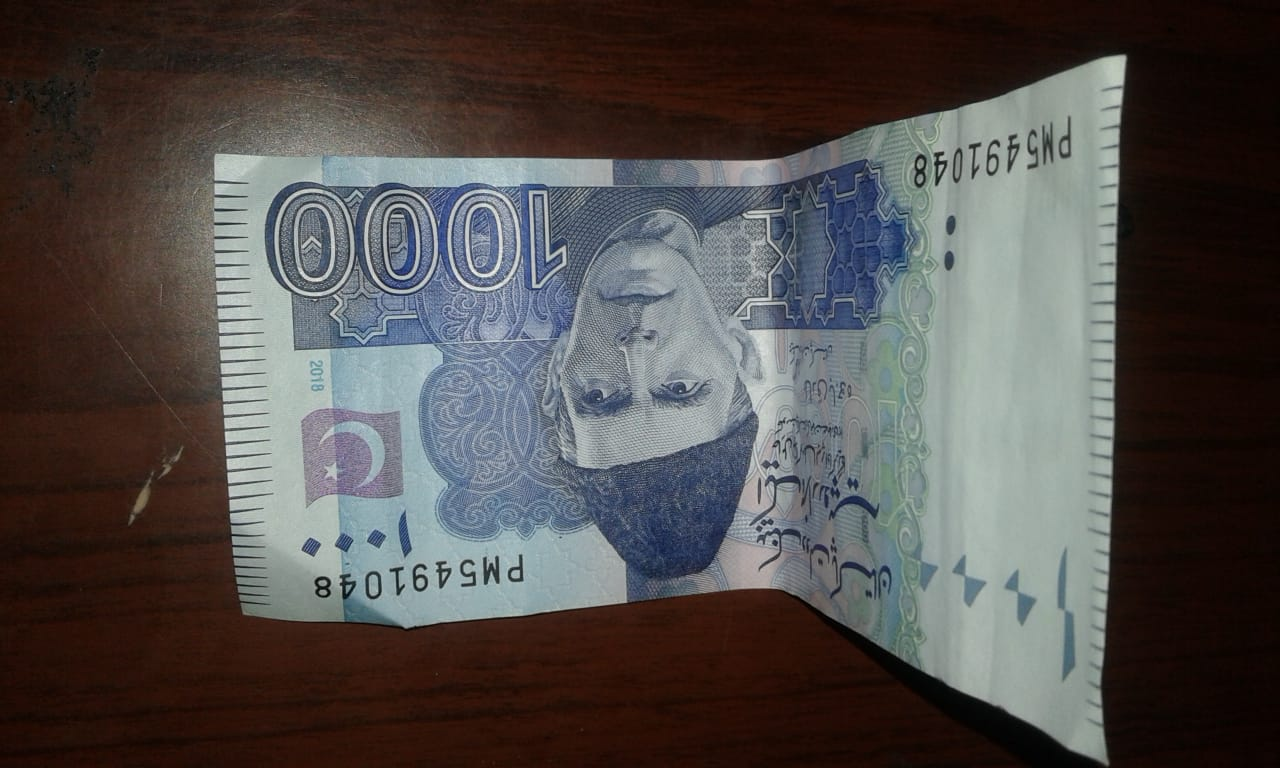1000 rupee: (174, 59, 1187, 758), (240, 167, 615, 333)
